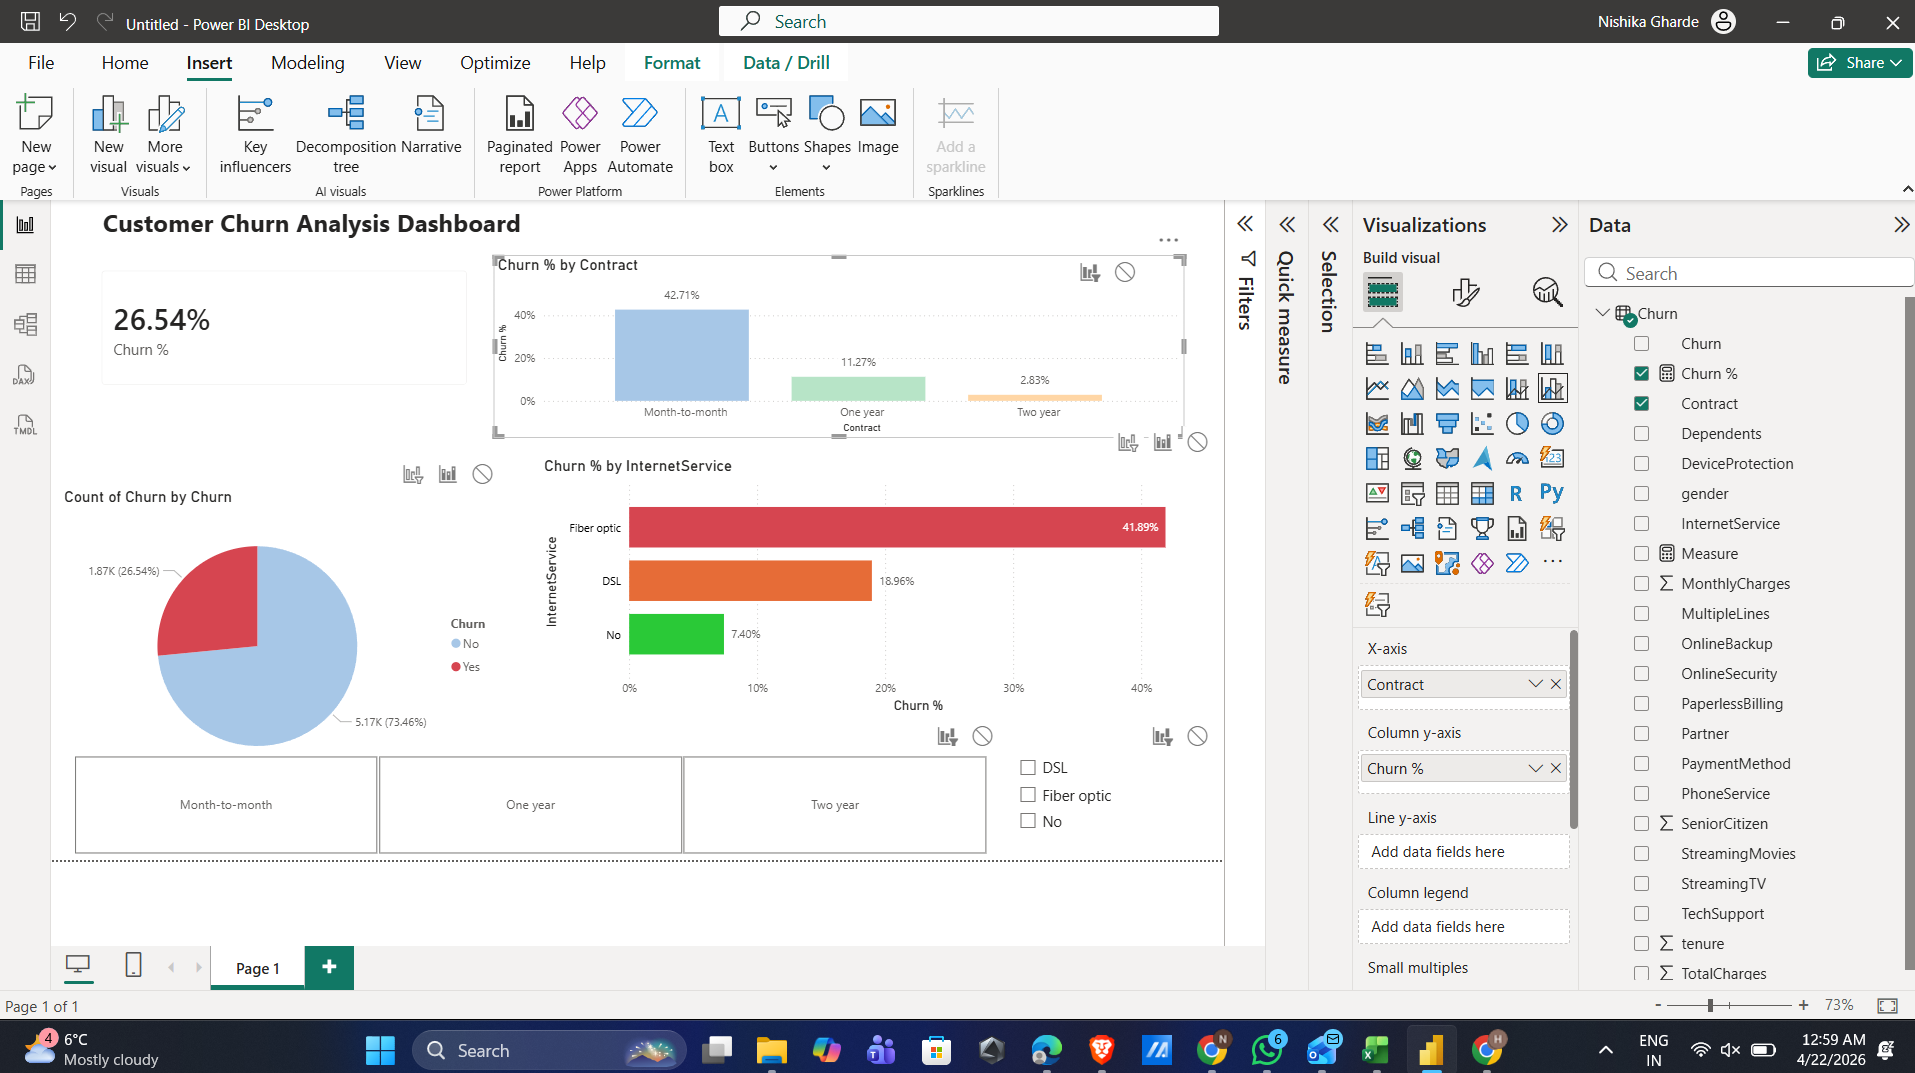

What the dashboard file says about the page in this screenshot:
{"tool":"powerbi","page":{"name":"Page 1","canvas":[1280,720],"ordinal":0},"visuals":[{"type":"cardVisual","fields":{"Data":["Churn.Churn %"]},"box":[38.2,60,433.9,159.6],"z":0},{"type":"pieChart","fields":{"Category":["Churn.Churn"],"Y":["CountNonNull(Churn.Churn)"]},"box":[9.6,313.8,489.8,327.4],"z":1000},{"type":"lineClusteredColumnComboChart","fields":{"Category":["Churn.Contract"],"Y":["Churn.Churn %"]},"box":[483,60,754.5,199.2],"z":2000},{"type":"clusteredBarChart","fields":{"Category":["Churn.InternetService"],"Y":["Churn.Churn %"]},"box":[533.5,279.7,746.3,285.1],"z":3000},{"type":"slicer","fields":{"Values":["Churn.Contract"]},"box":[0,600.3,1045.1,120.1],"z":3001},{"type":"slicer","fields":{"Values":["Churn.InternetService"]},"box":[1045.1,600.3,234.7,120.1],"z":3002},{"type":"textbox","box":[51.8,1.4,1148.8,58.7],"z":3003}]}

Visuals, with their boxes in screenshot pixels (x1, y1, x2, y2):
cardVisual - Churn.Churn %: {"left": 76, "top": 38, "right": 713, "bottom": 273}
pieChart - Churn.Churn x CountNonNull(Churn.Churn): {"left": 34, "top": 411, "right": 753, "bottom": 892}
lineClusteredColumnComboChart - Churn.Contract x Churn.Churn %: {"left": 729, "top": 38, "right": 1837, "bottom": 331}
clusteredBarChart - Churn.InternetService x Churn.Churn %: {"left": 803, "top": 361, "right": 1899, "bottom": 780}
slicer - Churn.Contract: {"left": 20, "top": 832, "right": 1555, "bottom": 1008}
slicer - Churn.InternetService: {"left": 1555, "top": 832, "right": 1899, "bottom": 1008}
textbox: {"left": 96, "top": 0, "right": 1783, "bottom": 38}
